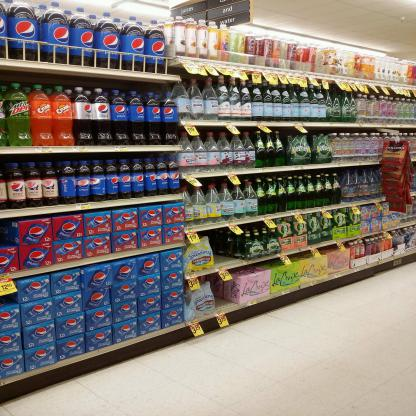Void: (212, 229, 237, 259), (212, 282, 233, 305)
